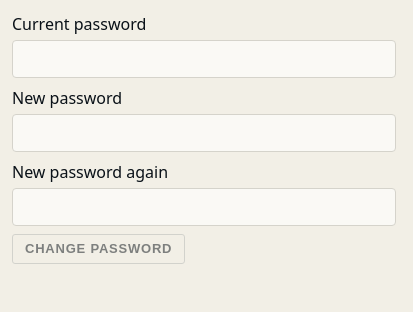
it: ChangePassword › shows the server's answer for a wrong current password, staying signed in
Type "not the password" into the password field labelled "Current password" at (204, 59), box [12,40,396,78]
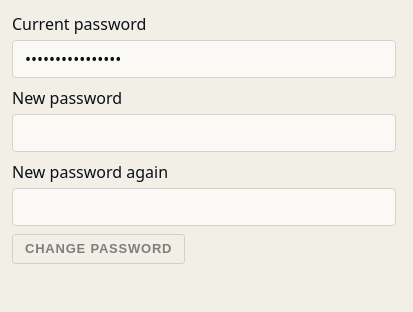
Type "the new password" into the password field labelled "New password" at (204, 133), box [12,114,396,152]
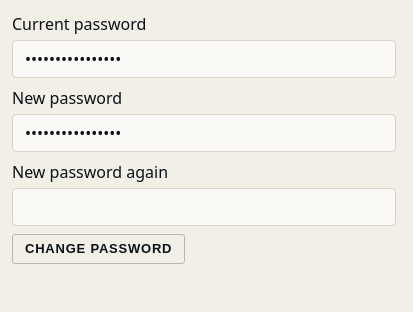
Type "the new password" into the password field labelled "New password again" at (204, 207), box [12,188,396,226]
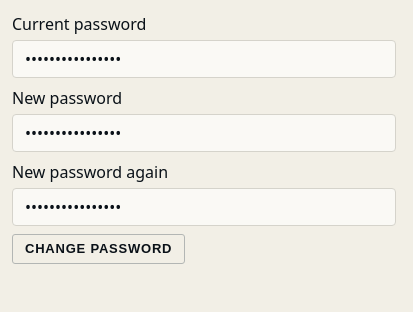
Click the button "Change password" at (99, 249), box [12,234,185,264]
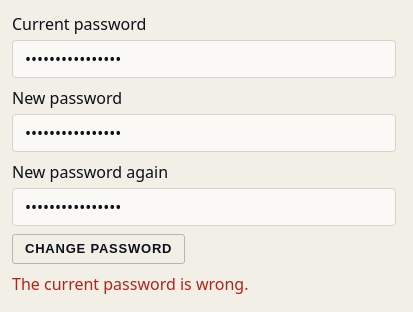
Now the message reads "The current password is wrong.", box [12,273,248,295]
